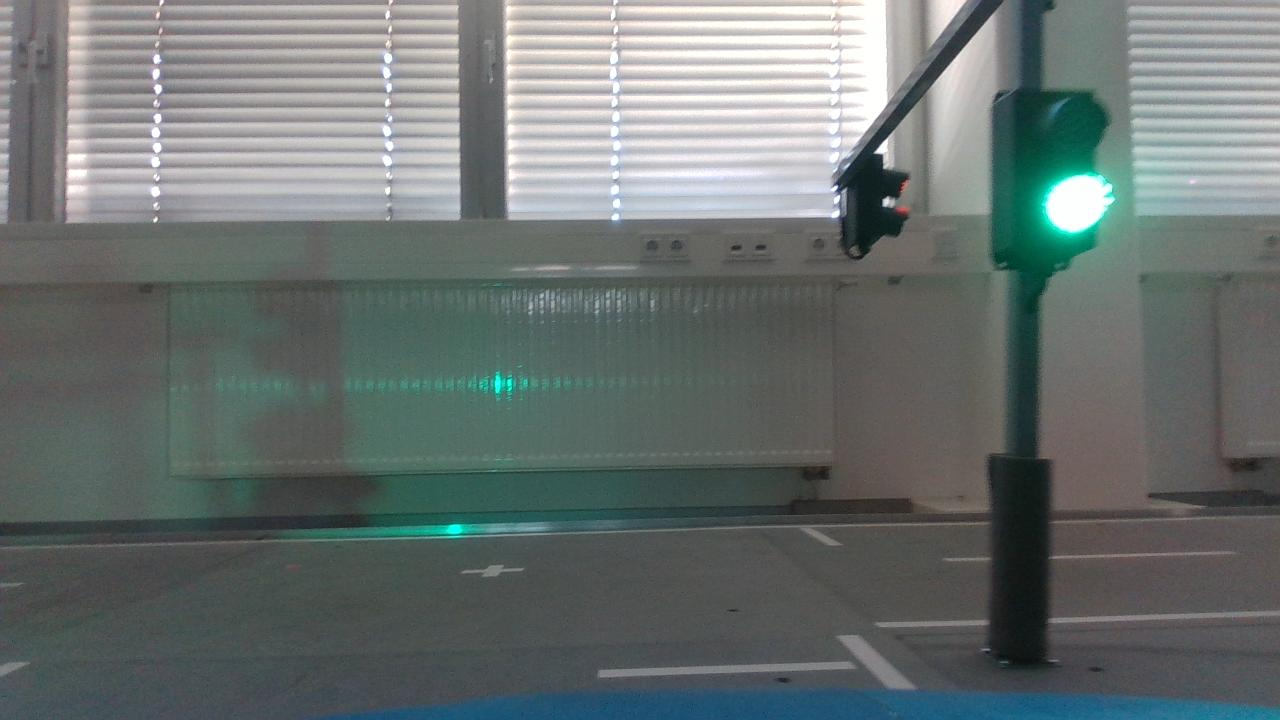traffic_light_green: (976, 73, 1122, 284)
